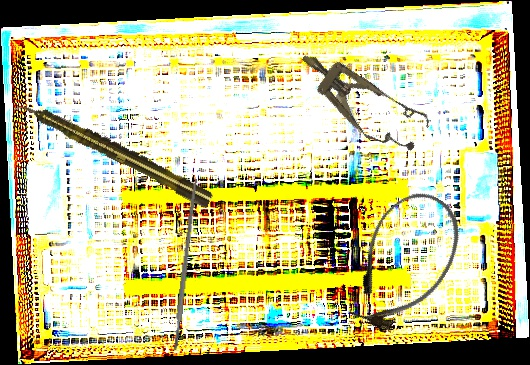Cannula: (332, 179, 477, 345)
Handpiece: (13, 94, 215, 210)
Scalpel Handle: (171, 178, 199, 351)
Speculum: (287, 34, 435, 164)
